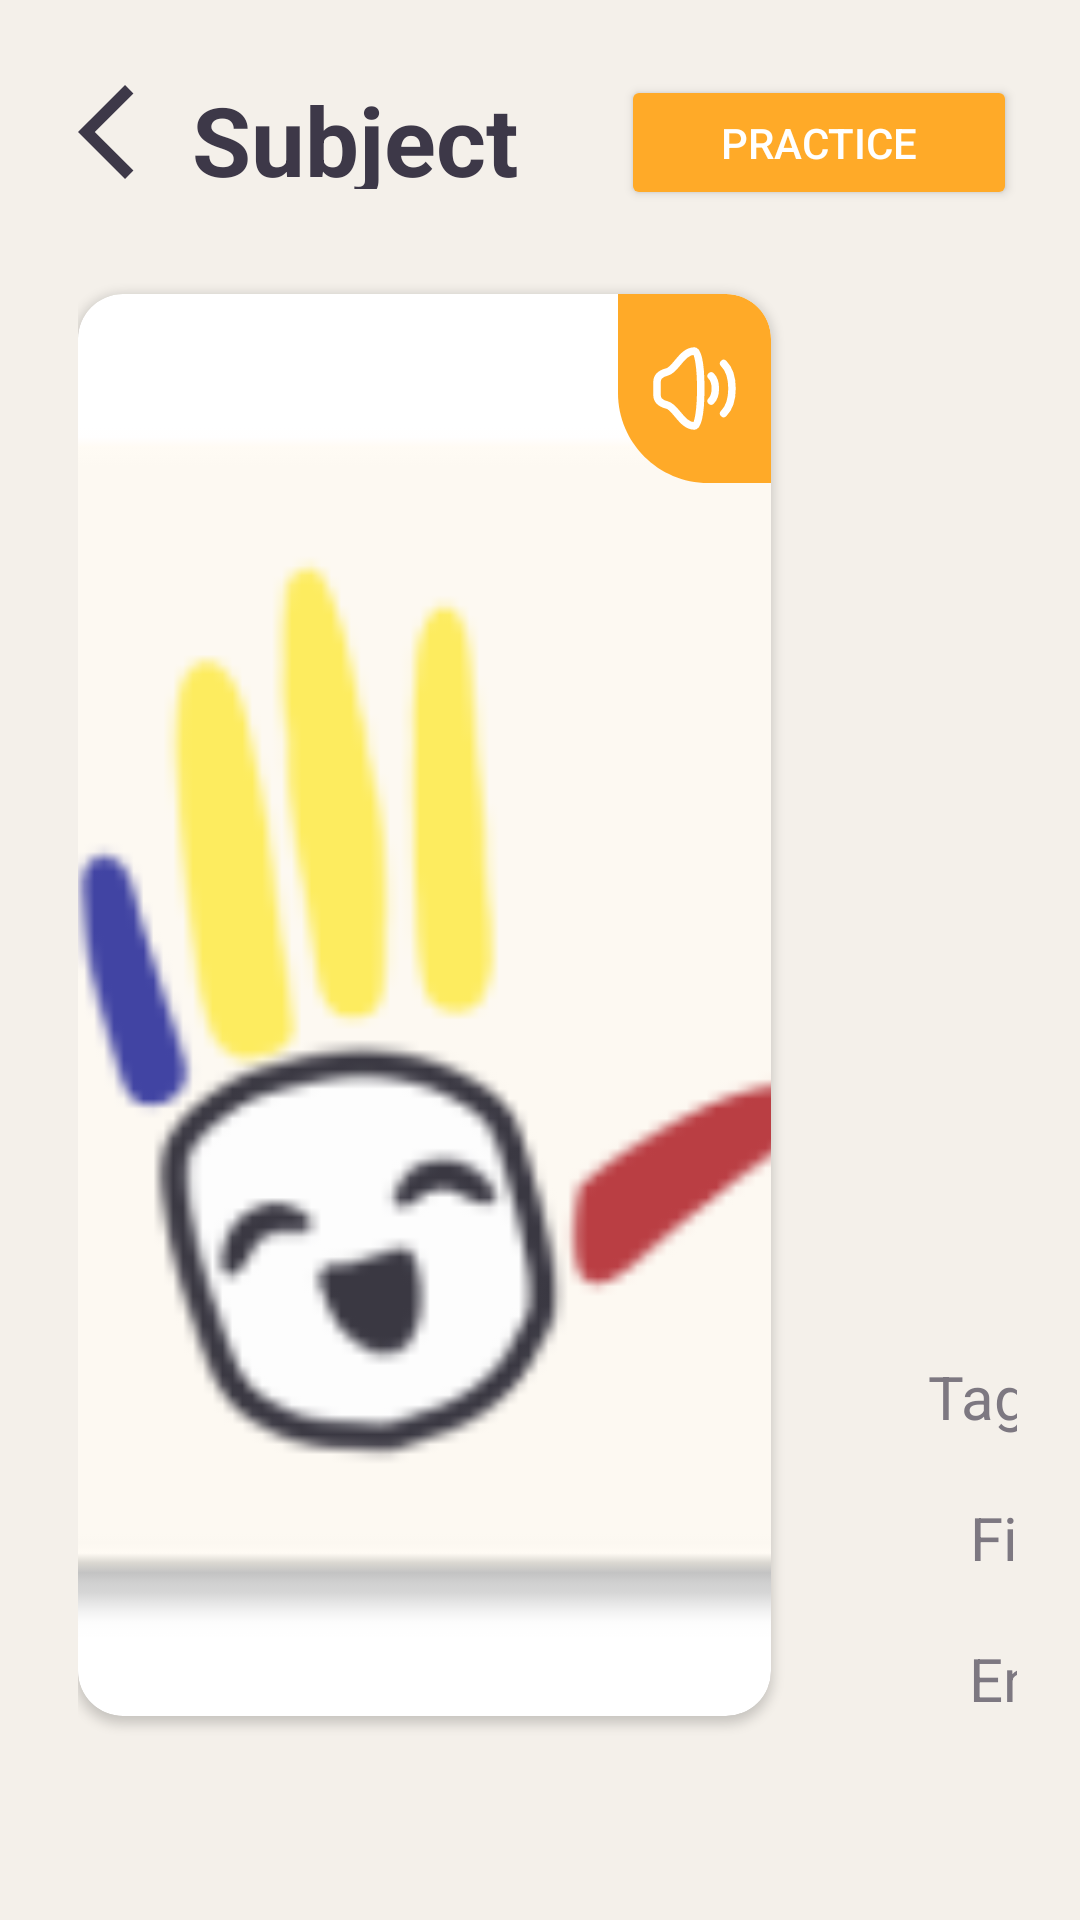

Screen size 1080px×1920px. Icon name, then its center in pixels as (x,y):
arrow back: (106,132)
audio: (694,388)
